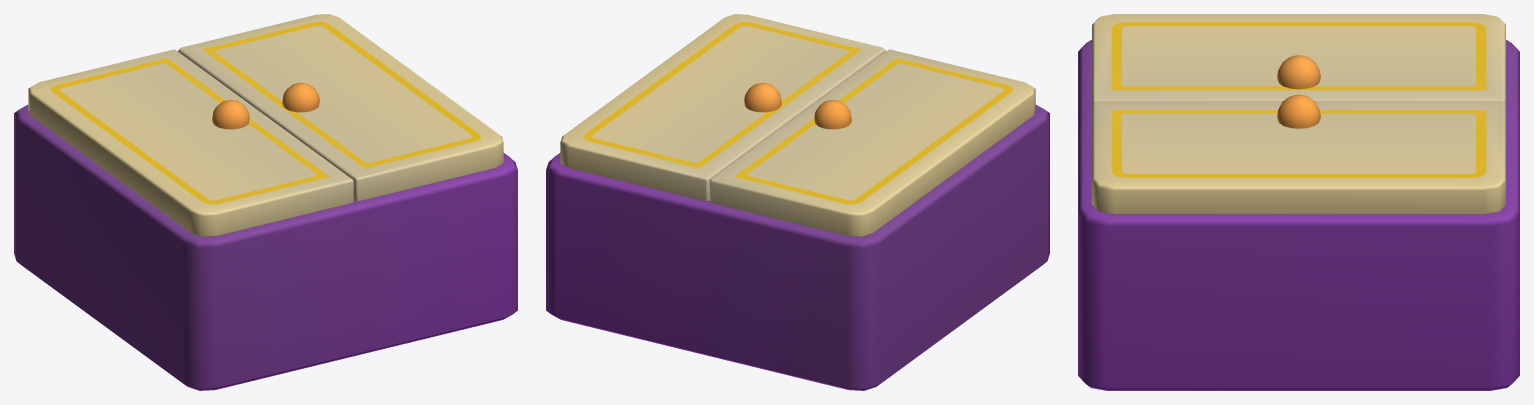
Rendered from Baloon Box.fbx.
3 views of the same model, side by side, from view 1: azimuth 30°, elevation 25°; view 2: azimuth 150°, elevation 25°; view 3: azimuth 270°, elevation 25° (orthographic). The views are drawn at different scales.
Visible parts, largest first — view 1: Baloon Box, Door.001, Door; view 2: Baloon Box, Door.001, Door; view 3: Baloon Box, Door, Door.001.
Boxes of the visible parts, x1,y1,x2,y2 form: Baloon Box: (14, 105, 517, 390); Door.001: (28, 49, 353, 236); Door: (178, 14, 503, 201); Baloon Box: (546, 105, 1049, 390); Door.001: (710, 49, 1035, 236); Door: (560, 14, 885, 201); Baloon Box: (1078, 39, 1519, 390); Door: (1092, 94, 1505, 214); Door.001: (1092, 14, 1505, 104).
Size of the model in its own units: 200 by 112 by 200.
